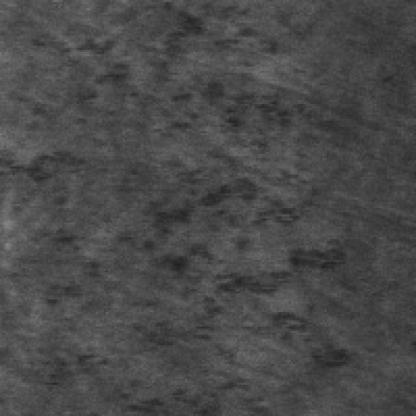rolled-in_scale: (127, 150, 351, 372), (9, 114, 114, 392), (102, 4, 322, 131)
